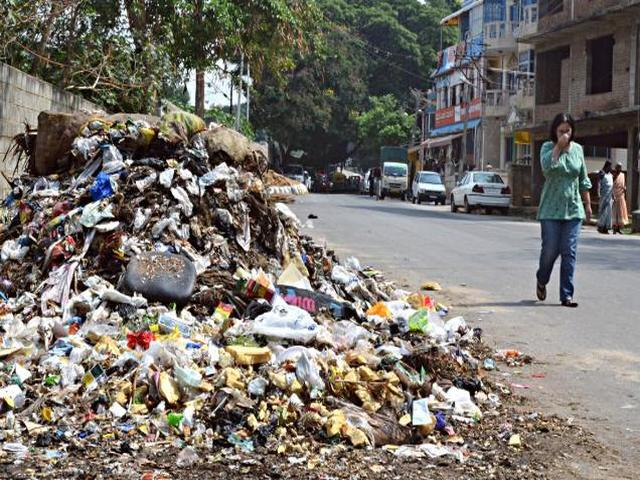garbage: (16, 175, 275, 455), (285, 305, 455, 472)
